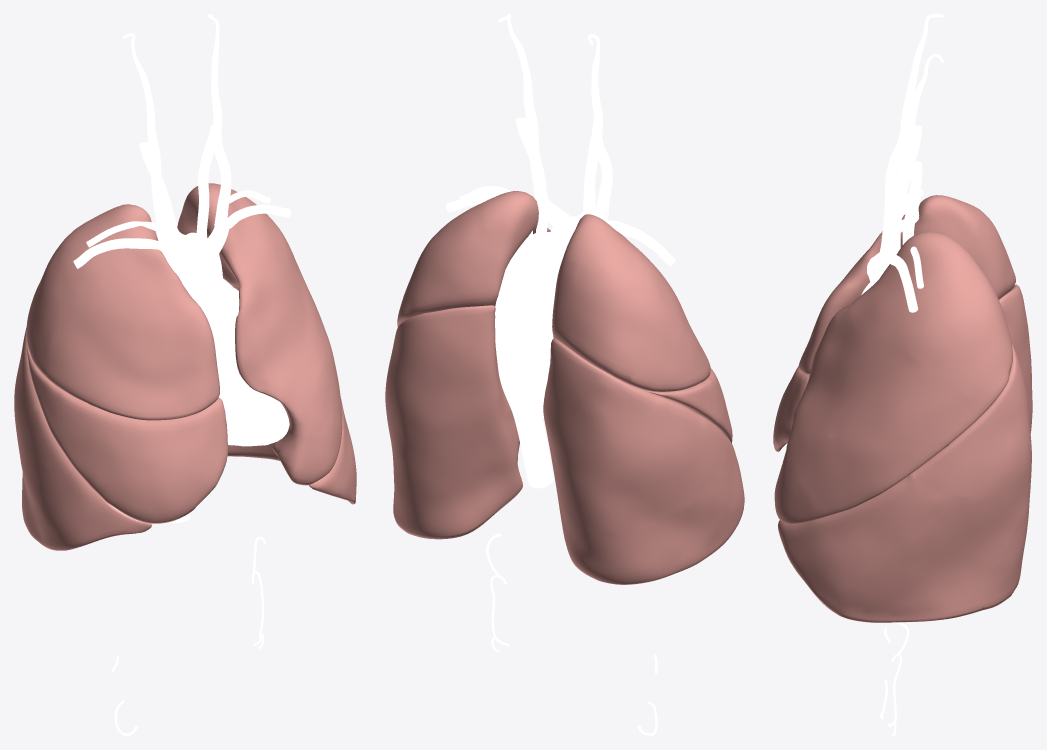
File: heart.glb
3 views of the same model, side by side, from view 1: azimuth 30°, elevation 25°; view 2: azimuth 150°, elevation 25°; view 3: azimuth 270°, elevation 25° (orthographic). The views are drawn at different scales.
Visible parts, largest first — view 1: Superior lobe of right lung, Superior lobe of left lung, Middle lobe of right lung, Inferior lobe of right lung, Right ventricle, Inferior lobe of left lung, Internal jugular vein.l, Internal jugular vein.r, Left brachiocephalic vein, Aortic arch, Left common carotid artery, Right subclavian vein (+5 smaller); view 2: Inferior lobe of right lung, Inferior lobe of left lung, Superior lobe of right lung, Superior lobe of left lung, Thoracic aorta, Aortic arch, Left atrium, Middle lobe of right lung, Internal jugular vein.r, Left common carotid artery, Internal jugular vein.l, Right common carotid artery (+2 smaller); view 3: Superior lobe of left lung, Inferior lobe of left lung, Superior lobe of right lung, Internal jugular vein.l, Inferior lobe of right lung, Internal jugular vein.r, Middle lobe of right lung, Left common carotid artery, Left subclavian vein, Right common carotid artery, Marginal artery.
Part boxes in pixels (box(x1,y1,x2,y2)): Superior lobe of right lung: box(26, 204, 219, 420); Superior lobe of left lung: box(177, 183, 342, 485); Middle lobe of right lung: box(27, 347, 228, 523); Inferior lobe of right lung: box(14, 327, 152, 550); Right ventricle: box(218, 336, 289, 445); Inferior lobe of left lung: box(227, 397, 356, 504); Internal jugular vein.l: box(208, 14, 231, 227); Internal jugular vein.r: box(123, 33, 170, 242); Left brachiocephalic vein: box(180, 225, 229, 290); Aortic arch: box(173, 232, 223, 301); Left common carotid artery: box(196, 125, 213, 241); Right subclavian vein: box(73, 238, 162, 268); Inferior lobe of right lung: box(543, 338, 744, 584); Inferior lobe of left lung: box(385, 305, 522, 539); Superior lobe of right lung: box(552, 214, 710, 391); Superior lobe of left lung: box(397, 191, 550, 327); Thoracic aorta: box(495, 294, 553, 488); Aortic arch: box(498, 232, 569, 300); Left atrium: box(522, 310, 553, 406); Middle lobe of right lung: box(643, 368, 732, 443); Internal jugular vein.r: box(587, 34, 612, 220); Left common carotid artery: box(516, 117, 548, 236); Internal jugular vein.l: box(498, 14, 548, 203); Right common carotid artery: box(581, 135, 601, 216); Superior lobe of left lung: box(774, 231, 1012, 524); Inferior lobe of left lung: box(778, 343, 1031, 622); Superior lobe of right lung: box(798, 195, 1015, 374); Internal jugular vein.l: box(883, 54, 943, 254); Inferior lobe of right lung: box(999, 284, 1032, 433); Internal jugular vein.r: box(883, 14, 943, 225); Middle lobe of right lung: box(773, 366, 809, 451); Left common carotid artery: box(902, 161, 922, 244); Left subclavian vein: box(883, 252, 918, 312); Right common carotid artery: box(896, 125, 921, 229); Marginal artery: box(880, 622, 909, 735).
Bounding box in the file's own units: 0.261 × 0.5679 × 0.1857.
